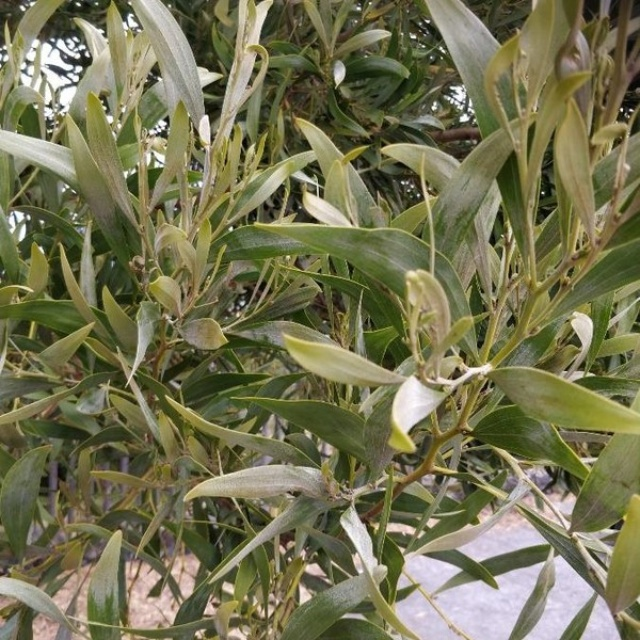obstacle: (31, 90, 518, 557)
